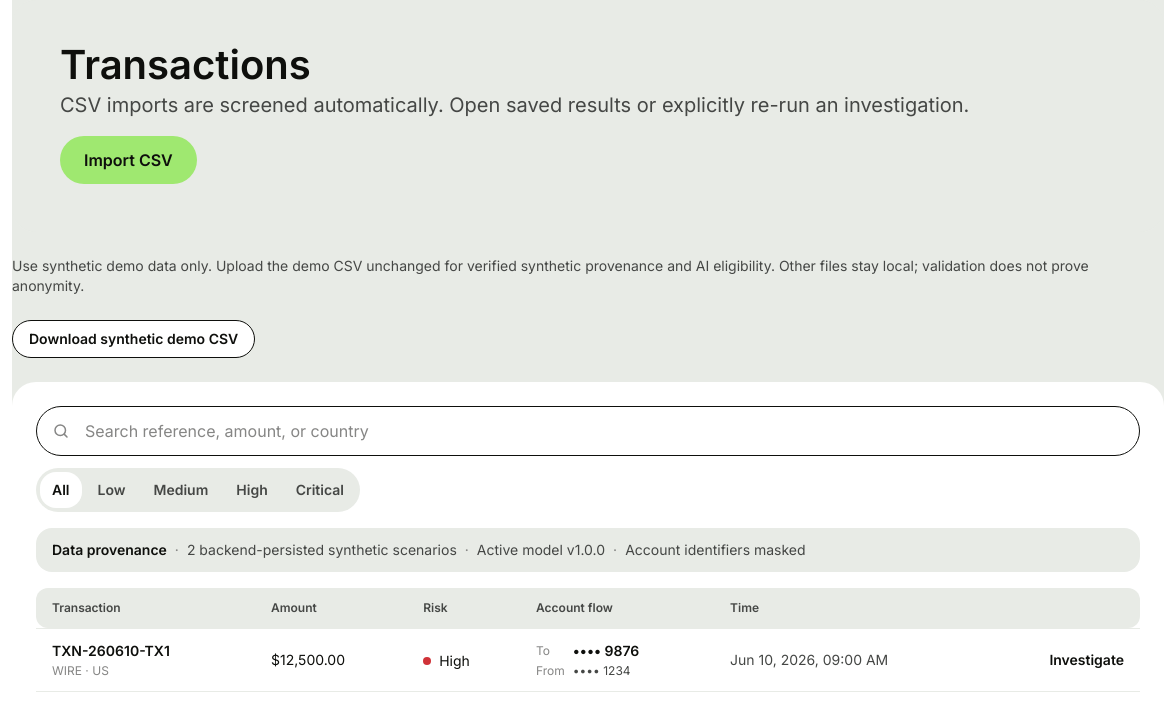
Test: Transactions › re-queries the server with a debounced search term
This screenshot has width=1164, height=706.
Expected: the text "TXN-260610-TX1" is shown, top-left (52, 642), bottom-right (170, 659)
Type "5555" into the search field named "Search transactions" at (588, 431), box top-left (36, 406), bottom-right (1140, 456)
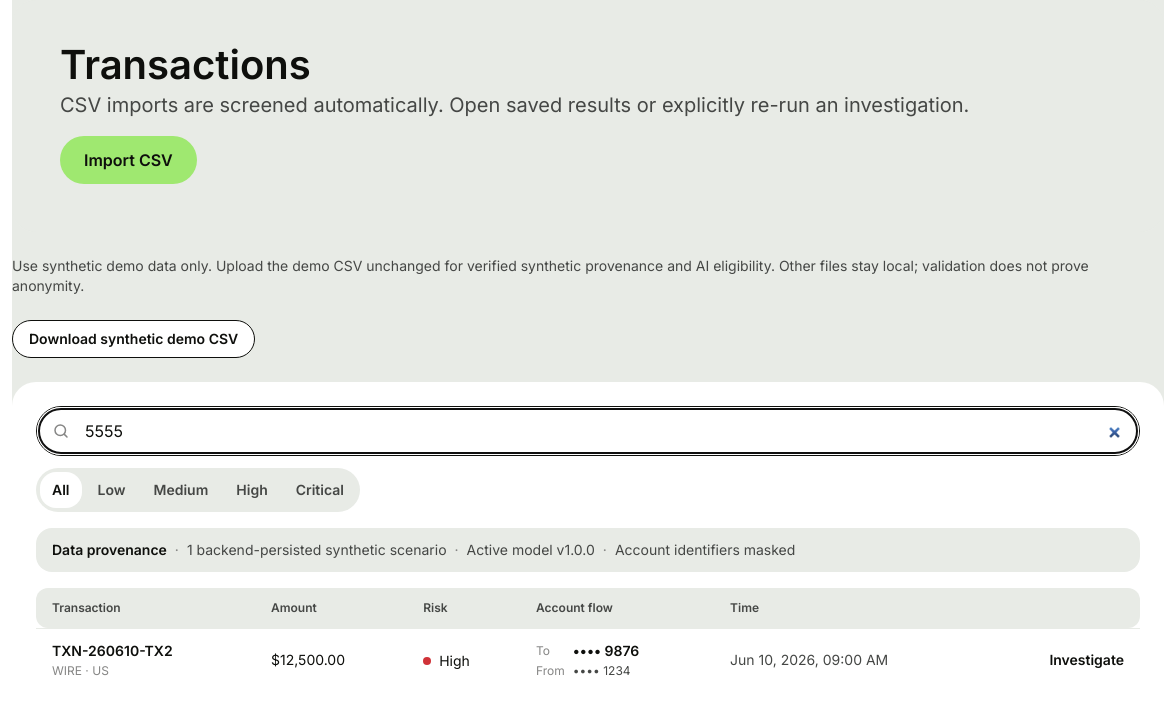
Expected: the text "TXN-260610-TX2" is shown, top-left (52, 642), bottom-right (173, 659)
Now the text "TXN-260610-TX1" is gone
